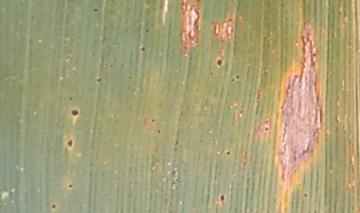tarspot: (214, 55, 226, 70), (228, 73, 242, 84), (65, 138, 77, 150), (70, 109, 82, 118), (218, 193, 227, 204), (139, 43, 148, 54), (91, 5, 101, 14), (261, 123, 270, 132), (302, 189, 311, 198), (224, 150, 234, 158), (93, 77, 103, 84), (66, 182, 74, 190), (50, 203, 58, 211), (145, 26, 152, 35), (155, 128, 163, 135), (151, 117, 158, 122)
